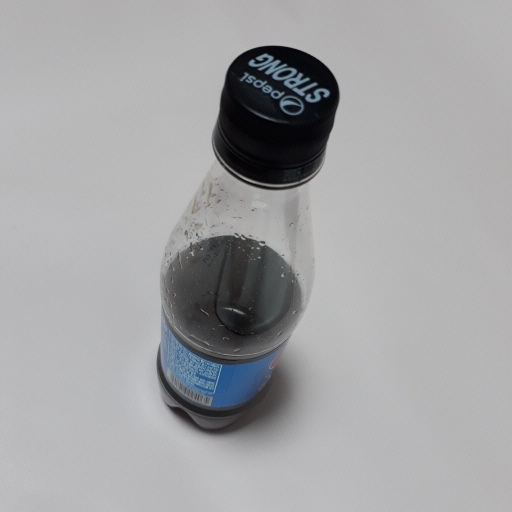Plastic_0: (159, 47, 341, 432)
